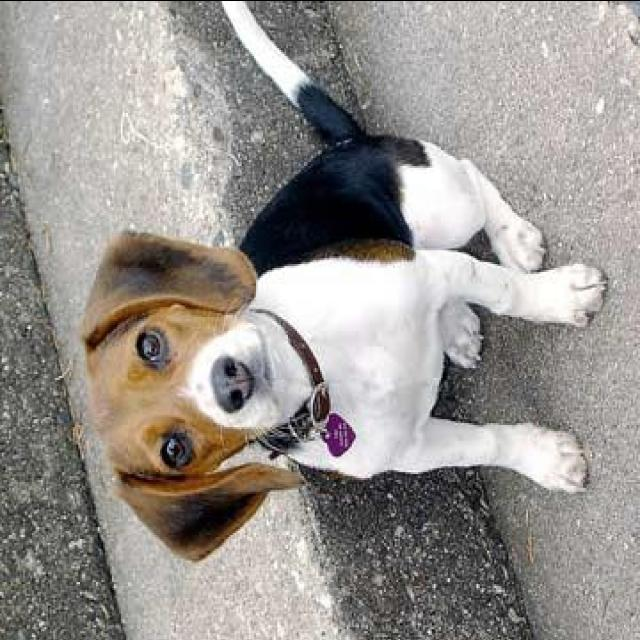beagle: (82, 0, 610, 560)
